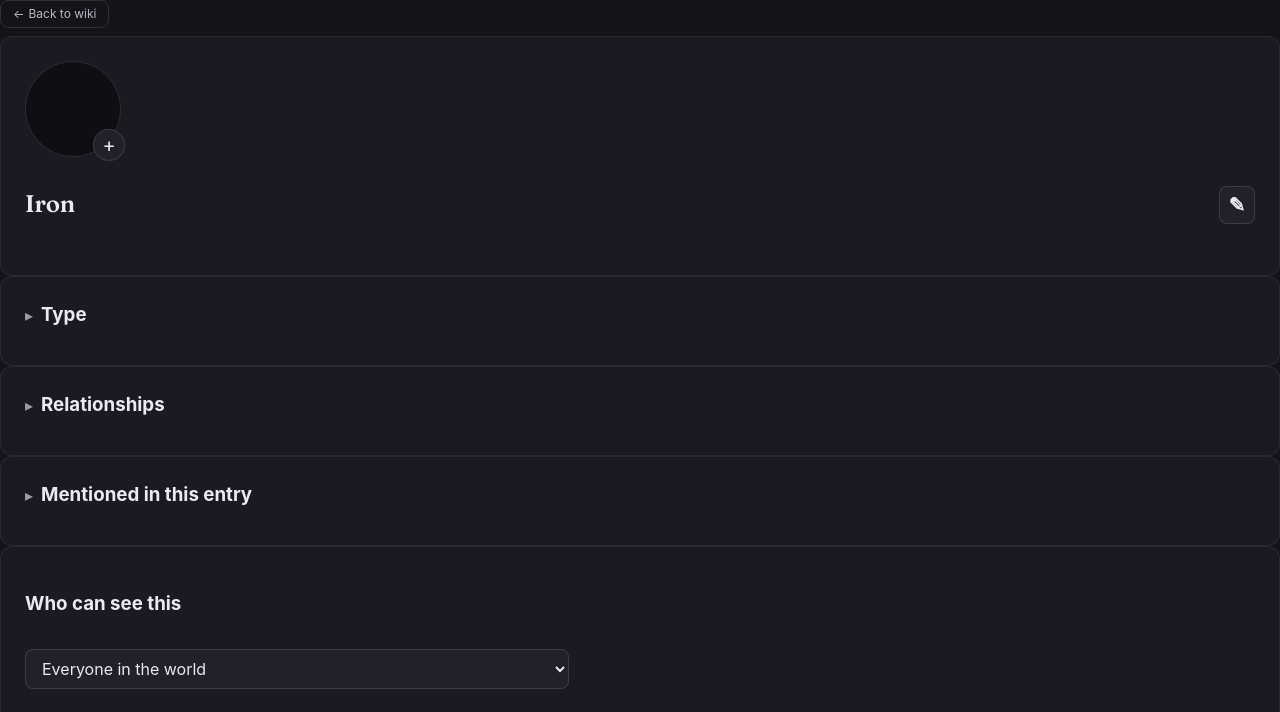
Test: typed field editor › shows a field’s hint without swallowing its accessible name
Click the button named "Edit entity": (1237, 205) [1219, 186, 1255, 224]
(page scrolled)
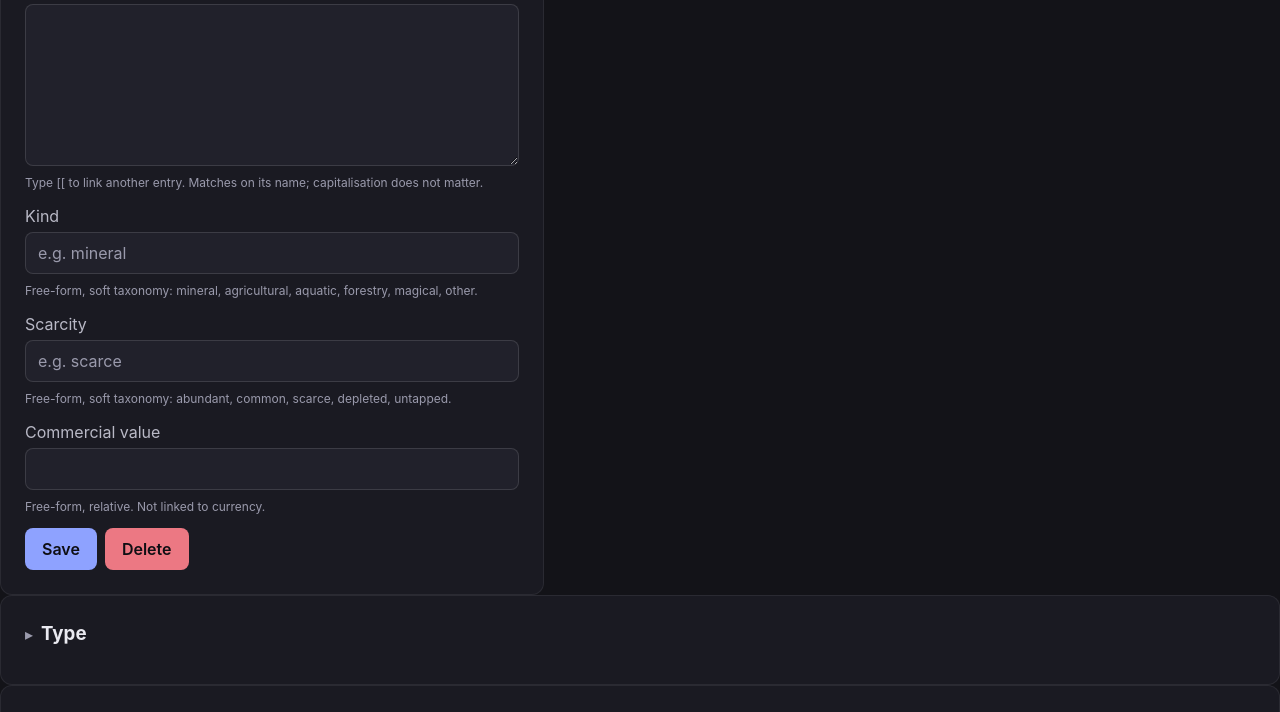
Expected: the field labelled "Scarcity" is shown, [25, 340, 519, 382]
